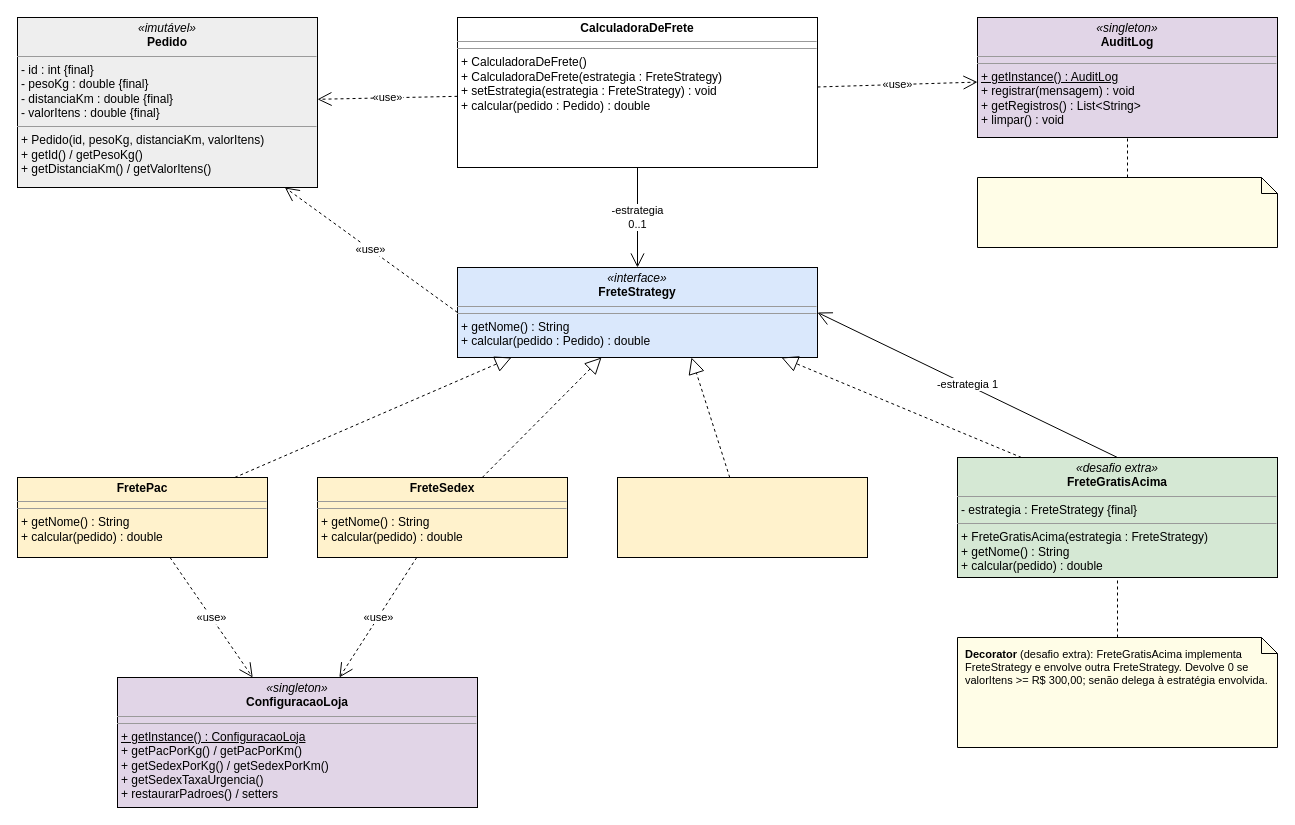
The diagram is 1295 pixels wide and 825 high, and some of its shapes have lost their labels. The shapes that lost their labels are listed below. From the top down, each one's box as (x1, y1, x2, y2) in pixels, then its label:
(976, 176, 1278, 248): Só grava após cálculo bem-sucedido: pedido=1 estrategia=SEDEX frete=35.00
(616, 476, 868, 558): RetiradaNaLoja + getNome() : String + calcular(pedido) : double
